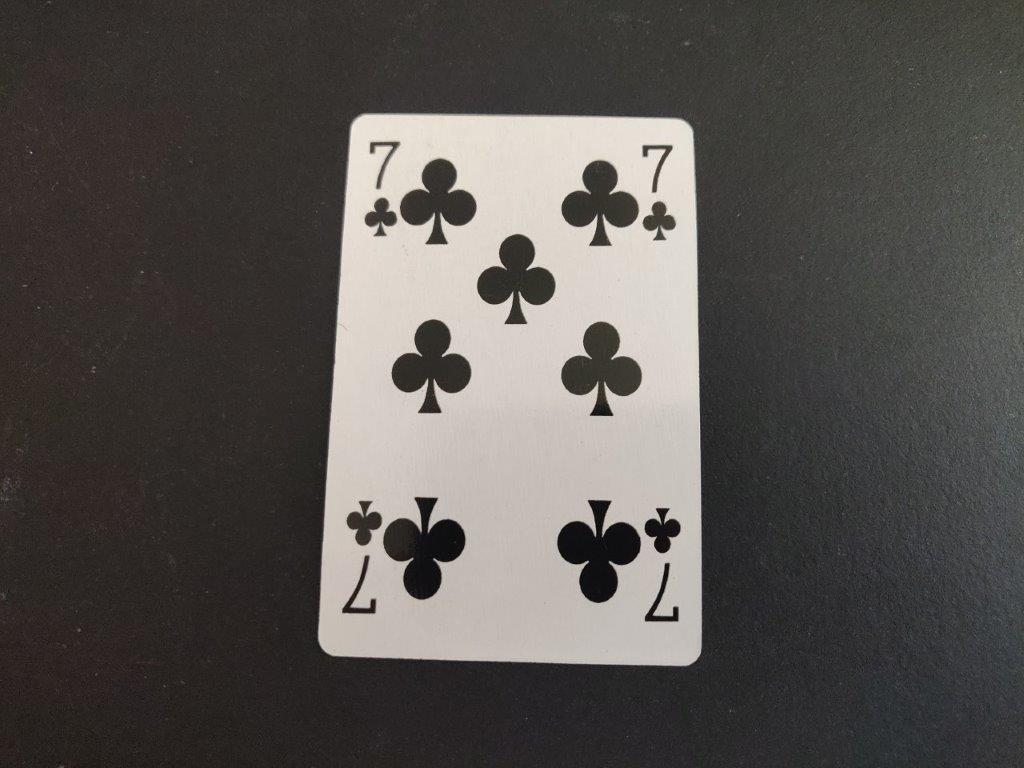7C: (638, 142, 681, 246), (363, 137, 402, 240)
